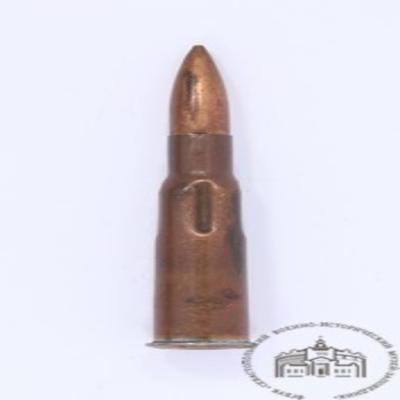weapon: (147, 45, 249, 351)
